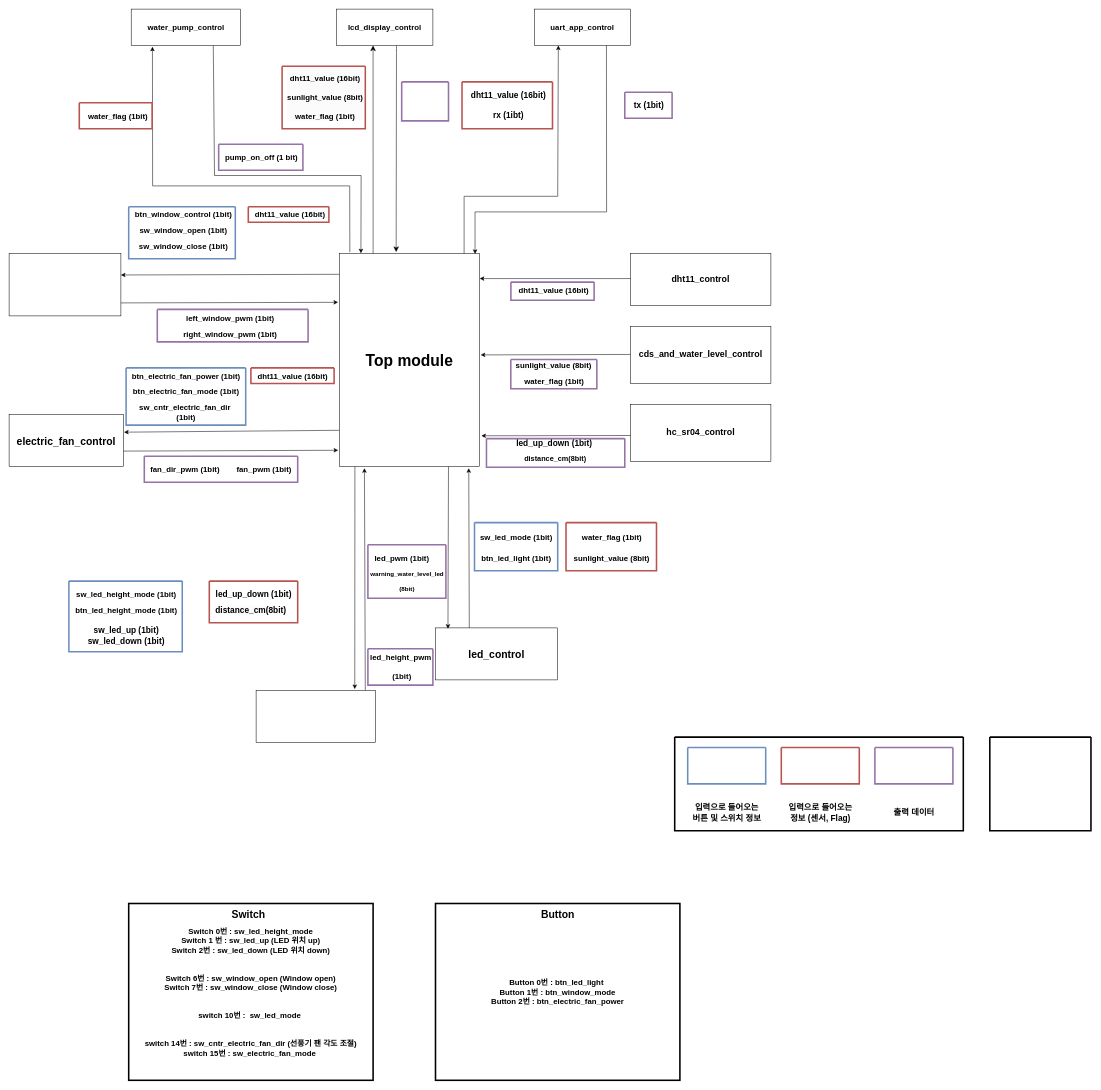
This 1101x1090 diagram has some shape labels left out. The box of each missing label's shape, as (x1, y1, x2, y2) in pixels:
dht11_value (16bit) [ 온도 (8bit) + 습도 (8bit)]: (989, 736, 1091, 831)
led_height_control: (256, 690, 376, 742)
scl (1bit) sda (1bit): (401, 81, 449, 121)
window_control: (9, 253, 121, 316)
